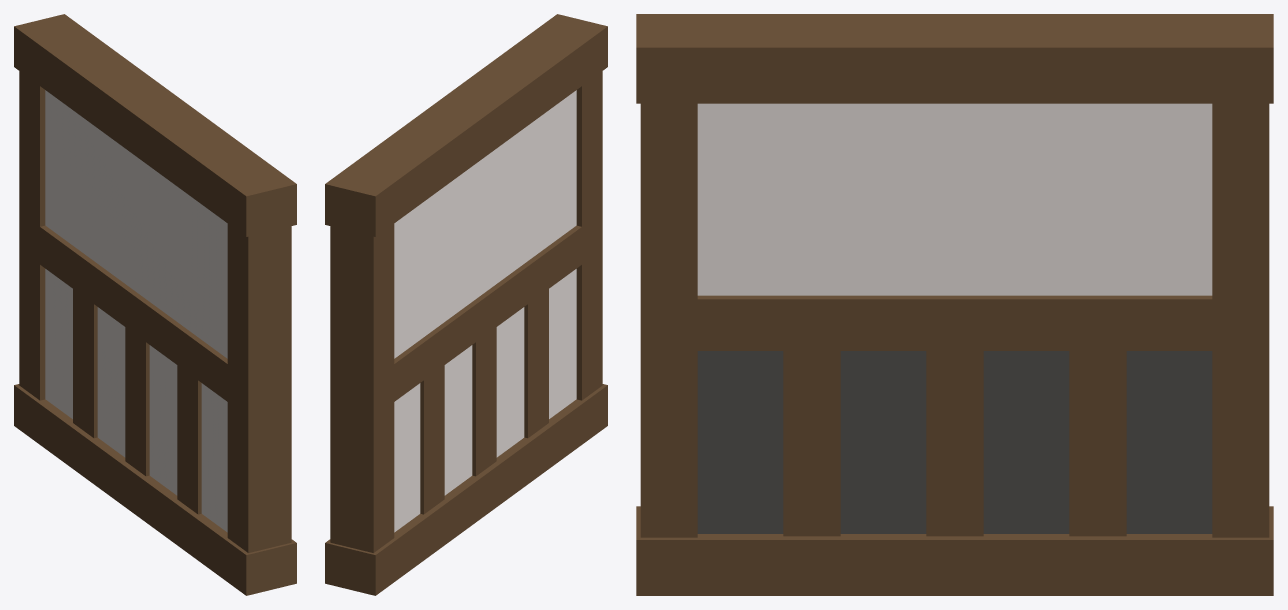
File: Wall09.fbx
3 renders of one model, left to right at view 1: azimuth 30°, elevation 25°; view 2: azimuth 150°, elevation 25°; view 3: azimuth 270°, elevation 25°, orthographic. The views are drawn at different scales.
Visible parts, largest first — view 1: Wall_07; view 2: Wall_07; view 3: Wall_07.
Boxes of the visible parts, x1,y1,x2,y2 form: Wall_07: [14, 14, 296, 595]; Wall_07: [325, 14, 607, 595]; Wall_07: [636, 14, 1273, 595].
Bounding box in the file's own units: 28 × 212 × 223.
